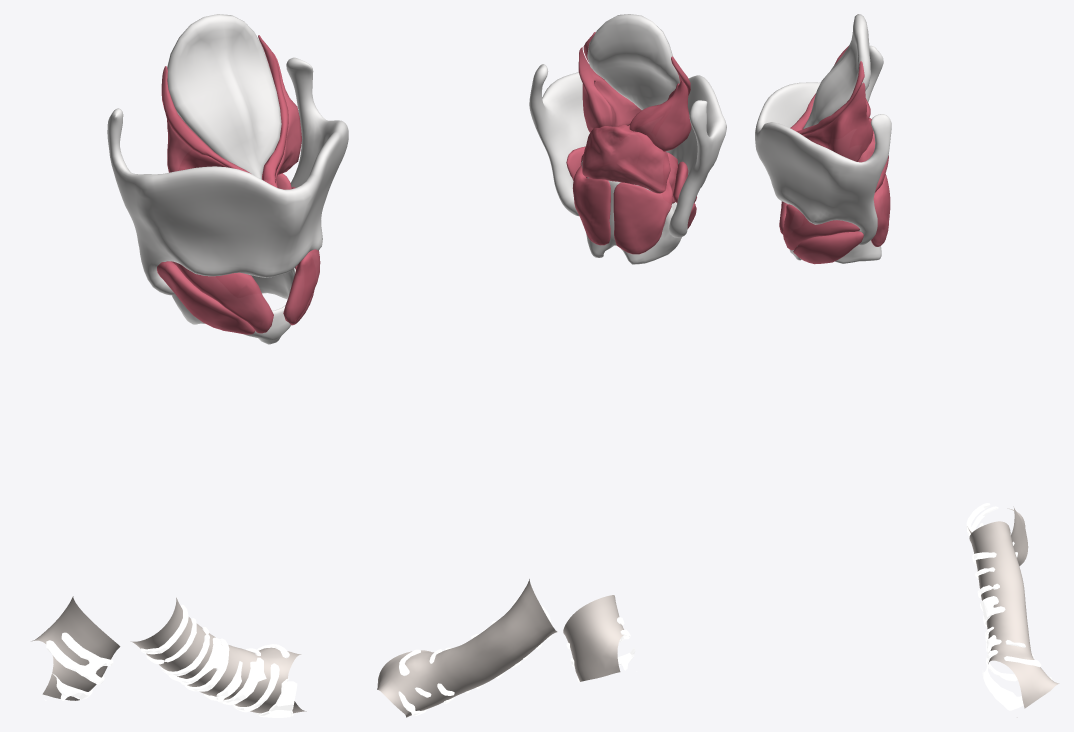
The model's file is 3d-vh-m-trachea-landmark.glb.
3 renders of one model, left to right at view 1: azimuth 30°, elevation 25°; view 2: azimuth 150°, elevation 25°; view 3: azimuth 270°, elevation 25°, orthographic. The views are drawn at different scales.
Visible parts, largest first — view 1: VH_M_trachea_landmark_larynx_laryngeal_cartilage, VH_M_trachea_landmark_main_bronchus, VH_M_trachea_landmark_muscles_of_larynx; view 2: VH_M_trachea_landmark_larynx_laryngeal_cartilage, VH_M_trachea_landmark_muscles_of_larynx, VH_M_trachea_landmark_main_bronchus; view 3: VH_M_trachea_landmark_larynx_laryngeal_cartilage, VH_M_trachea_landmark_main_bronchus, VH_M_trachea_landmark_muscles_of_larynx.
Boxes of the visible parts, box(x1,y1,x2,y2) form: VH_M_trachea_landmark_larynx_laryngeal_cartilage: box(107, 14, 348, 344); VH_M_trachea_landmark_main_bronchus: box(31, 596, 306, 717); VH_M_trachea_landmark_muscles_of_larynx: box(157, 35, 320, 334); VH_M_trachea_landmark_larynx_laryngeal_cartilage: box(529, 14, 726, 264); VH_M_trachea_landmark_muscles_of_larynx: box(566, 32, 696, 254); VH_M_trachea_landmark_main_bronchus: box(377, 579, 636, 717); VH_M_trachea_landmark_larynx_laryngeal_cartilage: box(755, 14, 891, 263); VH_M_trachea_landmark_main_bronchus: box(966, 503, 1059, 717); VH_M_trachea_landmark_muscles_of_larynx: box(779, 46, 890, 264).
Bounding box in the file's own units: 0.076 × 0.1964 × 0.0862.
